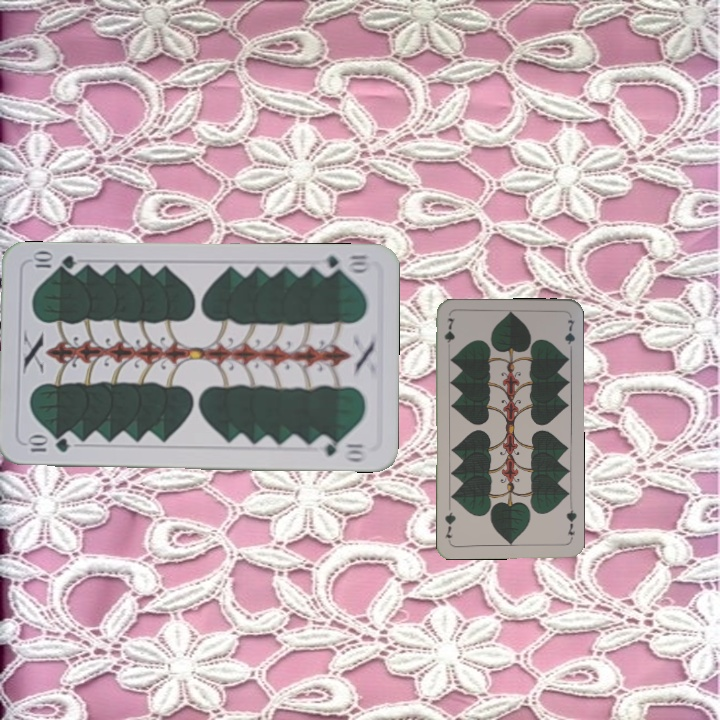G10: (314, 251, 373, 277), (23, 434, 72, 455)
G7: (440, 314, 457, 354), (563, 502, 579, 542)
